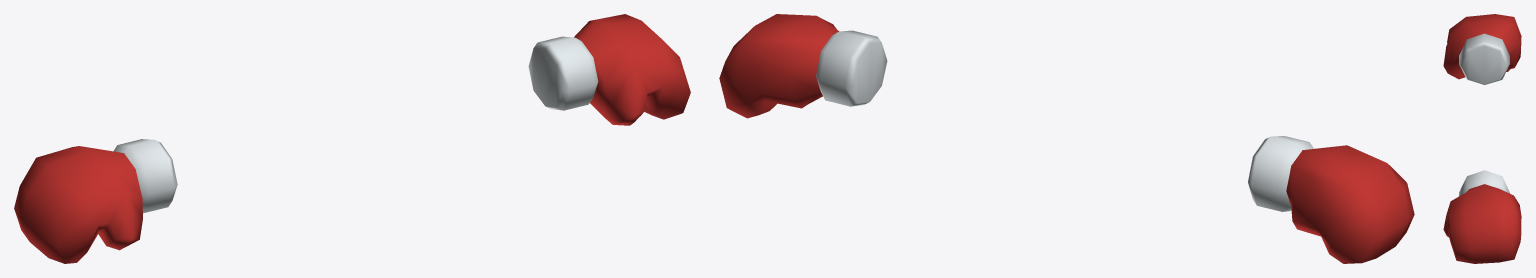
The model's file is Glove_19.fbx.
3 views of the same model, side by side, from view 1: azimuth 30°, elevation 25°; view 2: azimuth 150°, elevation 25°; view 3: azimuth 270°, elevation 25° (orthographic). The views are drawn at different scales.
Parts seen in each view (by area): view 1: Glove_19; view 2: Glove_19; view 3: Glove_19.
Part boxes in pixels (bbox=[...]): Glove_19: bbox=[14, 14, 690, 263]; Glove_19: bbox=[719, 14, 1414, 263]; Glove_19: bbox=[1443, 14, 1521, 263].
Size of the model in its own units: 135 by 18.34 by 21.27.
